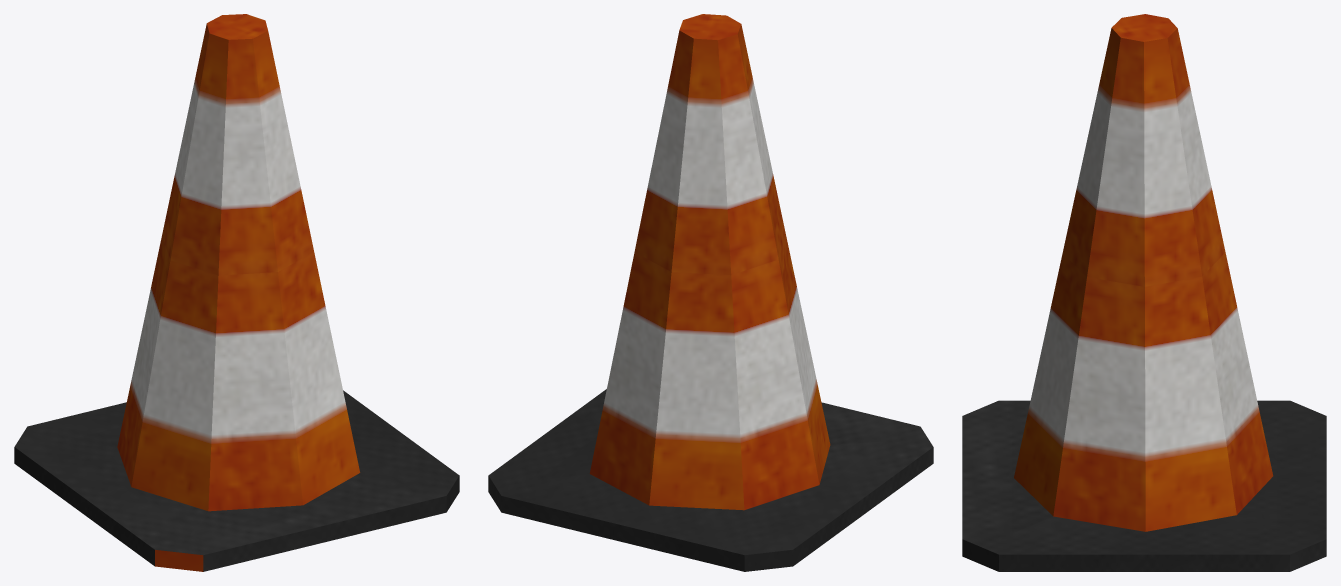
Rendered from Urban_TrafficConeRoundRubber_Model.fbx.
3 views of the same model, side by side, from view 1: azimuth 30°, elevation 25°; view 2: azimuth 150°, elevation 25°; view 3: azimuth 270°, elevation 25° (orthographic). The views are drawn at different scales.
Visible parts, largest first — view 1: Urban_TrafficConeRoundRubber_Mesh; view 2: Urban_TrafficConeRoundRubber_Mesh; view 3: Urban_TrafficConeRoundRubber_Mesh.
Part boxes in pixels (left/top/right/bottom): Urban_TrafficConeRoundRubber_Mesh: left=14, top=14, right=459, bottom=571; Urban_TrafficConeRoundRubber_Mesh: left=488, top=14, right=933, bottom=571; Urban_TrafficConeRoundRubber_Mesh: left=962, top=14, right=1326, bottom=571.
Bounding box in the file's own units: 0.4 × 0.5656 × 0.4.
